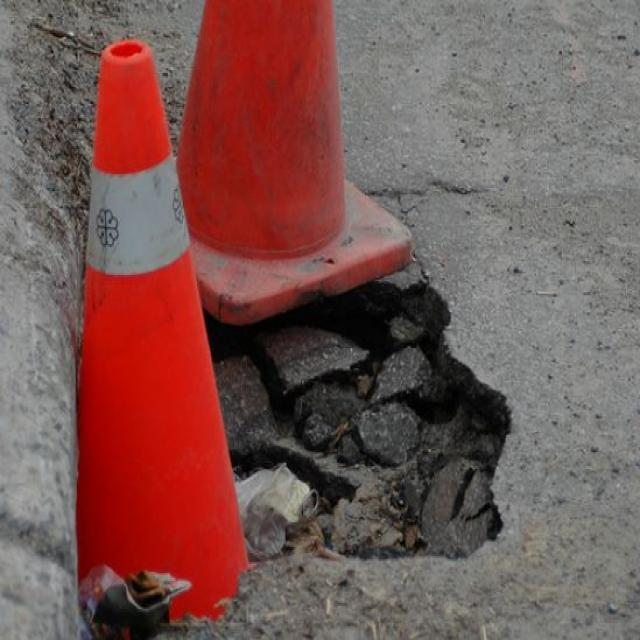pothole: (245, 268, 514, 574)
